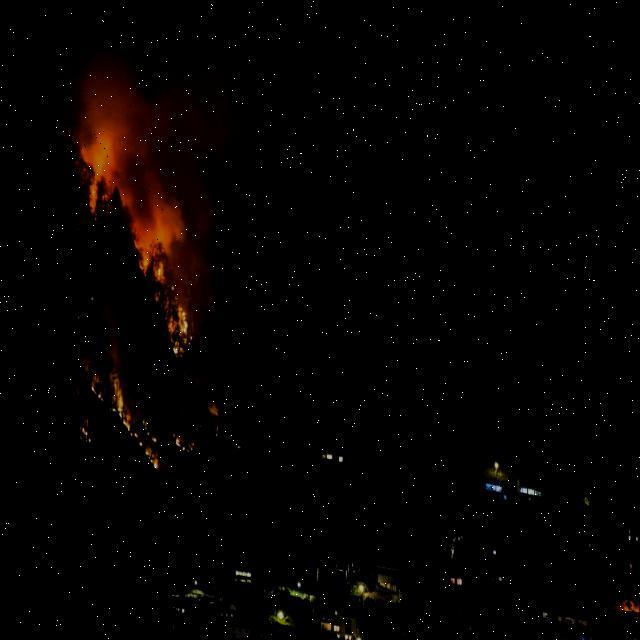Fire: (129, 228, 193, 354), (110, 367, 166, 466), (81, 141, 110, 217), (79, 350, 102, 396), (173, 422, 196, 446), (210, 390, 220, 429), (80, 415, 92, 441)
